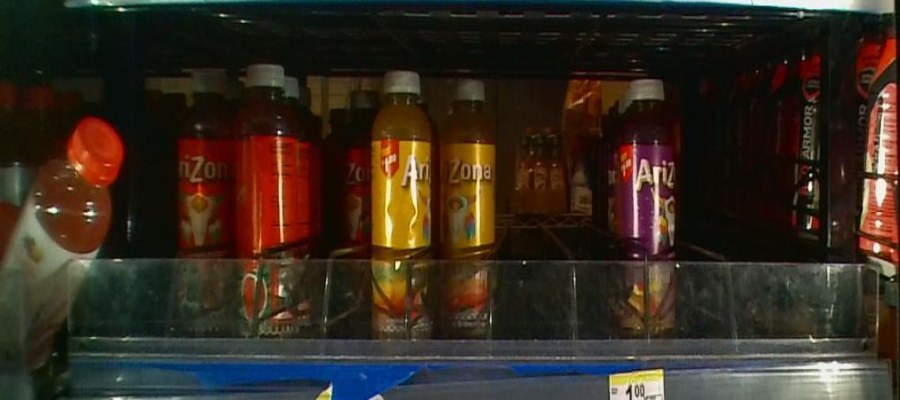bottle: (233, 45, 297, 346), (373, 70, 435, 353), (622, 74, 678, 354), (174, 60, 230, 337), (441, 72, 495, 339), (334, 86, 371, 339)
